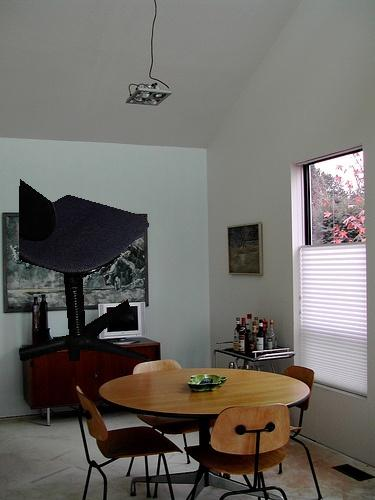tampered: (20, 180, 149, 361)
